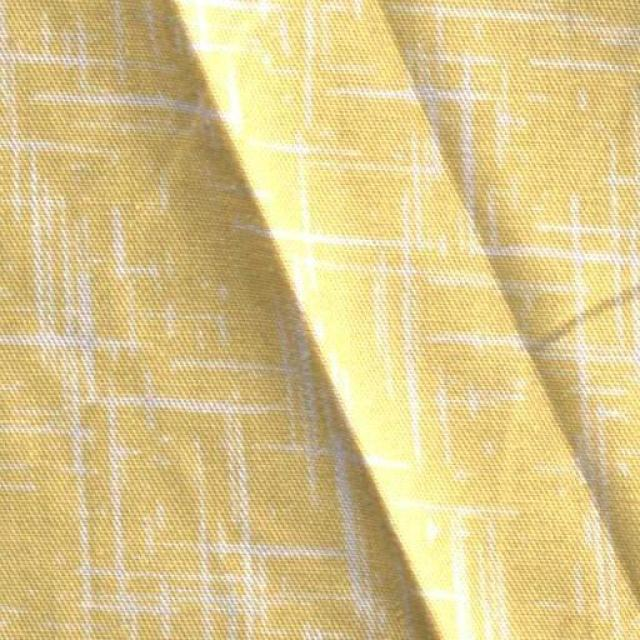broken_yarn: (168, 0, 456, 639), (371, 4, 639, 616), (507, 277, 638, 363)
